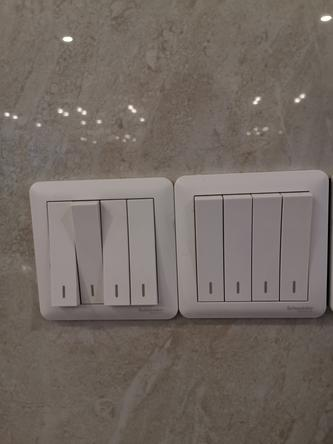switch: (273, 186, 315, 306), (123, 192, 165, 309), (41, 195, 81, 309), (218, 192, 257, 306), (70, 195, 109, 308), (96, 196, 134, 307), (190, 191, 227, 303), (248, 189, 283, 306)
